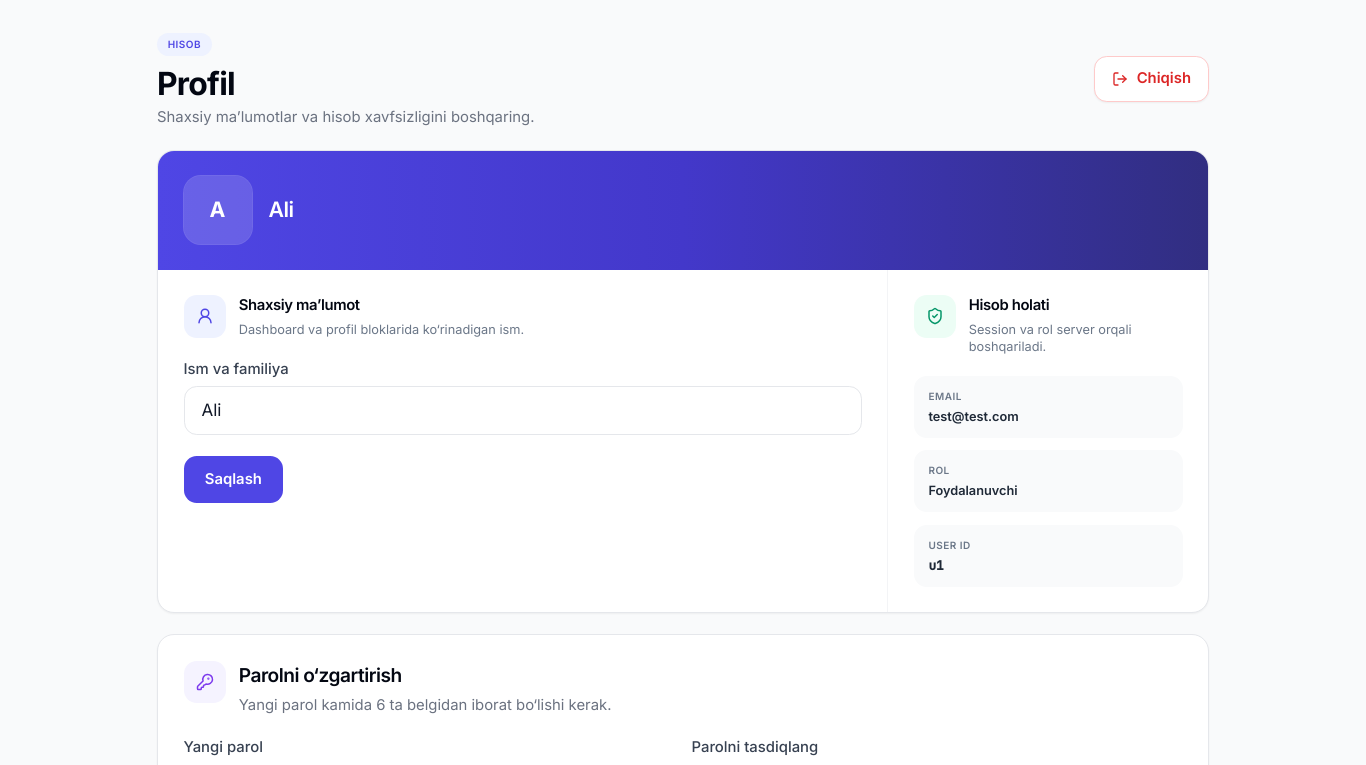
Scenario: Profile sahifasi › ism yangilash muvaffaqiyatli: updateProfile chaqiriladi va tasdiq ko'rinadi
Replace the text in the field labelled "Ism va familiya" with "Bobur Aliyev" at [522, 411], box [184, 386, 862, 435]
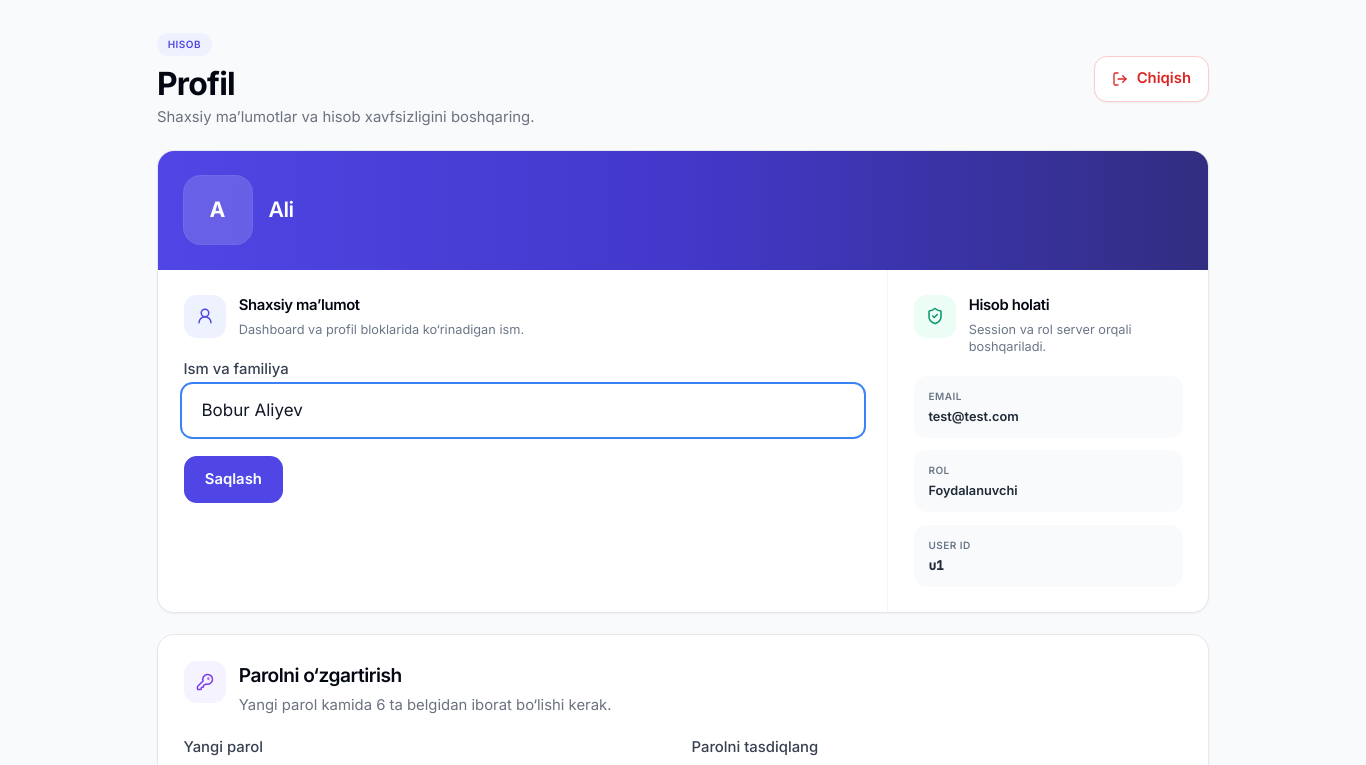
Click the button "Saqlash" at [233, 480], box [184, 456, 283, 503]
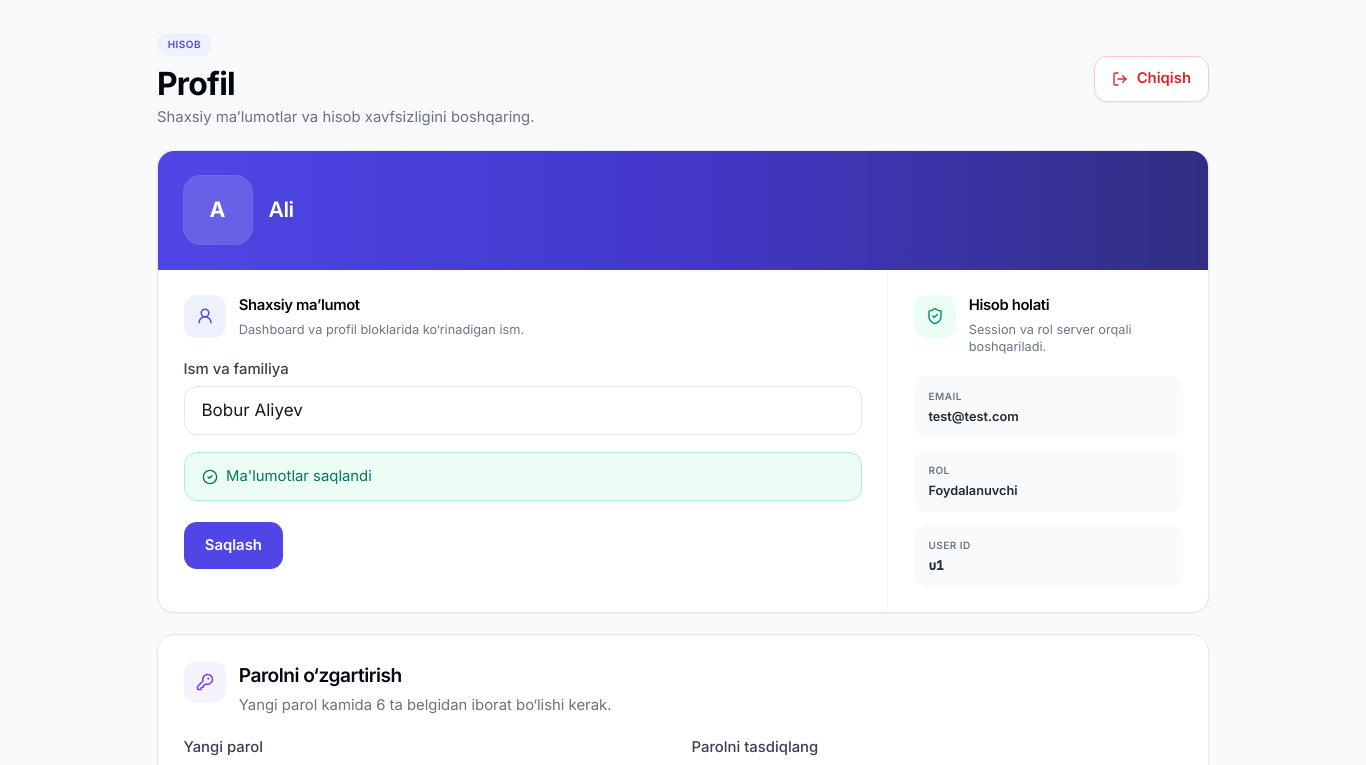
Check: the text "Ma'lumotlar saqlandi" is shown, box [184, 452, 862, 501]
